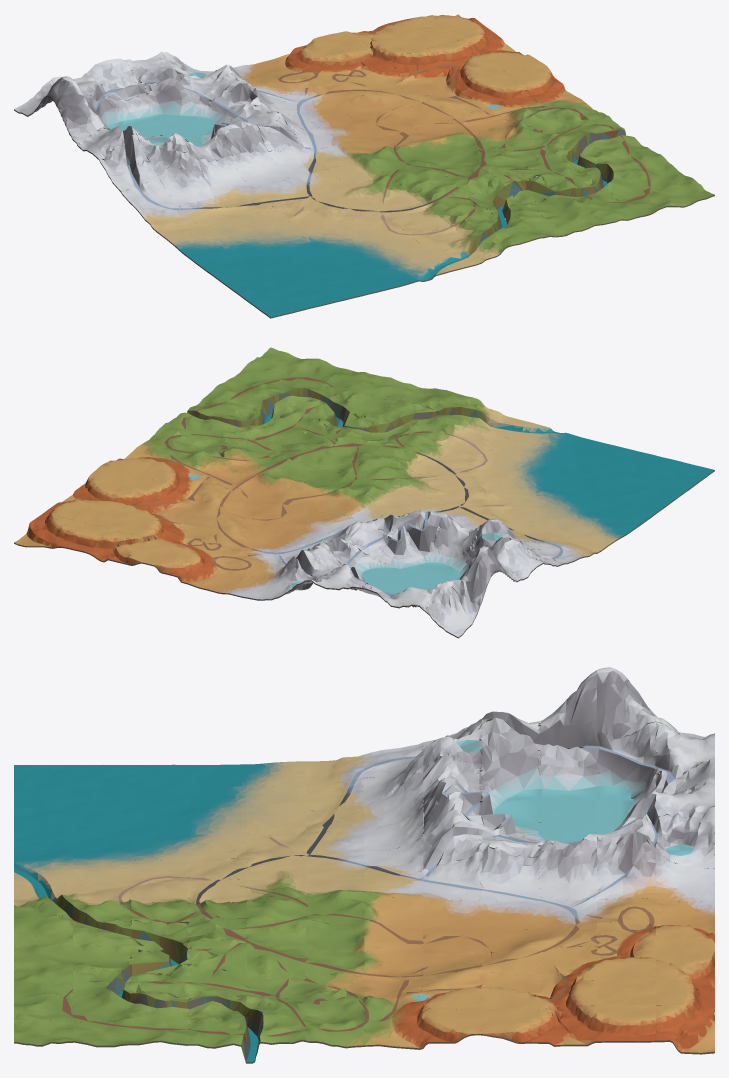
File: terrain_lod1.glb
3 renders of one model, top to bottom at view 1: azimuth 30°, elevation 25°; view 2: azimuth 150°, elevation 25°; view 3: azimuth 270°, elevation 25°, orthographic. The views are drawn at different scales.
Parts seen in each view (by area): view 1: chunk_3_10, chunk_0_7, chunk_1_6, chunk_0_9, chunk_2_11, chunk_2_6, chunk_9_9, chunk_4_9, chunk_3_6, chunk_2_10, chunk_1_7, chunk_0_6 (+121 smaller); view 2: chunk_0_11, chunk_3_8, chunk_0_10, chunk_9_11, chunk_2_7, chunk_7_11, chunk_0_8, chunk_10_11, chunk_11_11, chunk_4_8, chunk_2_8, chunk_10_8 (+114 smaller); view 3: chunk_1_8, chunk_1_10, chunk_5_10, chunk_5_9, chunk_1_9, chunk_4_11, chunk_0_10, chunk_5_8, chunk_0_9, chunk_4_7, chunk_11_11, chunk_5_7 (+129 smaller).
Boxes of the visible parts, bbox=[...] form: chunk_3_10: bbox=[145, 67, 204, 122]; chunk_0_7: bbox=[99, 133, 157, 191]; chunk_1_6: bbox=[158, 152, 216, 205]; chunk_0_9: bbox=[57, 80, 106, 144]; chunk_2_11: bbox=[87, 58, 145, 100]; chunk_2_6: bbox=[194, 155, 253, 198]; chunk_9_9: bbox=[390, 48, 446, 86]; chunk_4_9: bbox=[204, 80, 262, 123]; chunk_3_6: bbox=[231, 151, 289, 187]; chunk_2_10: bbox=[110, 93, 168, 130]; chunk_1_7: bbox=[136, 133, 194, 175]; chunk_0_6: bbox=[120, 176, 179, 216]; chunk_0_11: bbox=[421, 582, 479, 638]; chunk_3_8: bbox=[375, 527, 433, 571]; chunk_0_10: bbox=[445, 546, 501, 606]; chunk_9_11: bbox=[87, 529, 146, 563]; chunk_2_7: bbox=[433, 514, 480, 558]; chunk_7_11: bbox=[161, 551, 219, 588]; chunk_0_8: bbox=[493, 536, 543, 580]; chunk_10_11: bbox=[51, 520, 109, 553]; chunk_11_11: bbox=[14, 514, 72, 548]; chunk_4_8: bbox=[343, 521, 395, 559]; chunk_2_8: bbox=[411, 547, 470, 580]; chunk_10_8: bbox=[116, 475, 173, 508]; chunk_1_8: bbox=[479, 717, 540, 799]; chunk_1_10: bbox=[595, 722, 658, 798]; chunk_5_10: bbox=[596, 831, 655, 899]; chunk_5_9: bbox=[538, 839, 599, 902]; chunk_1_9: bbox=[538, 735, 600, 798]; chunk_4_11: bbox=[655, 806, 714, 868]; chunk_0_10: bbox=[597, 667, 655, 741]; chunk_5_8: bbox=[479, 846, 540, 902]; chunk_0_9: bbox=[538, 670, 599, 748]; chunk_4_7: bbox=[421, 810, 483, 871]; chunk_11_11: bbox=[656, 1004, 714, 1054]; chunk_5_7: bbox=[421, 851, 483, 900].
Size of the model in its own units: 2403 by 412 by 2401.
